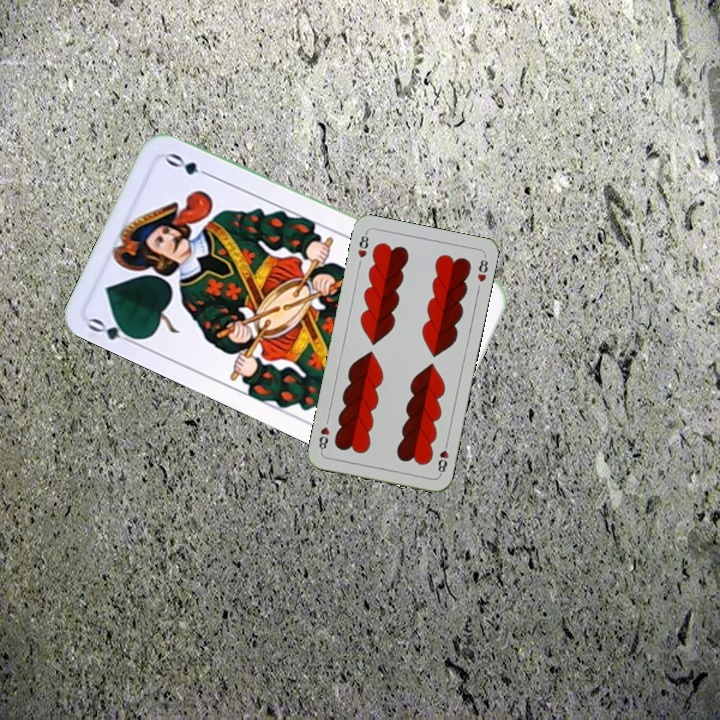GO: (84, 314, 143, 349)
H8: (433, 437, 451, 478), (353, 229, 371, 261)
